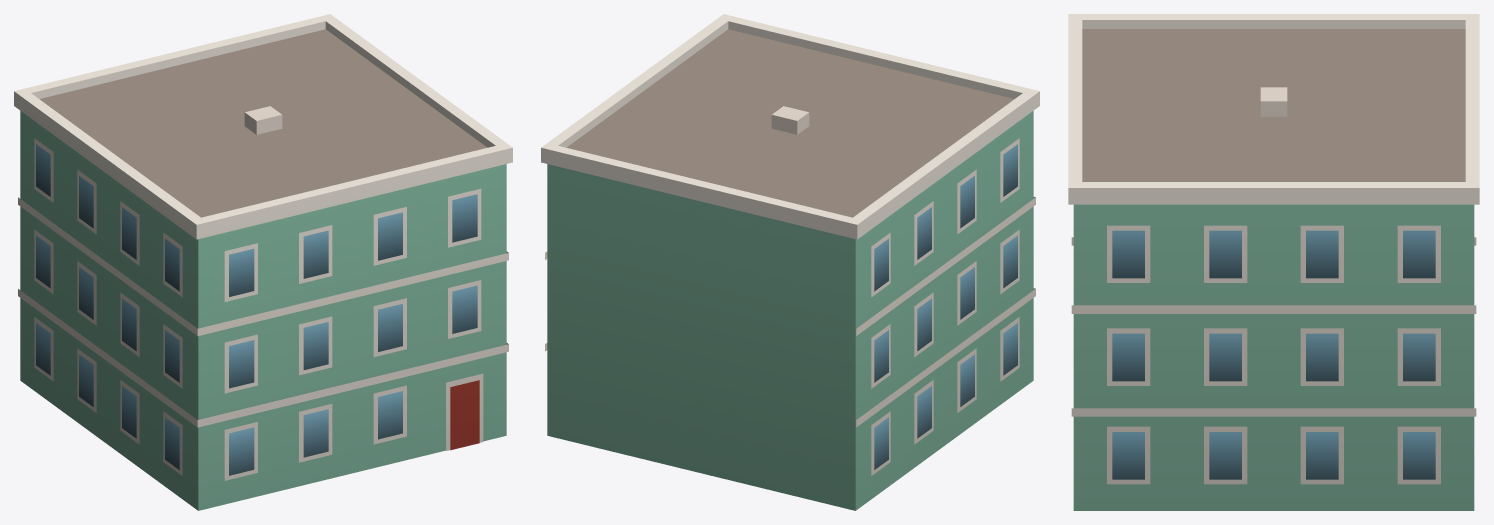
Rendered from tremont_n6_far.glb.
The picture shows the model from 3 angles, left to right: view 1: azimuth 30°, elevation 25°; view 2: azimuth 150°, elevation 25°; view 3: azimuth 270°, elevation 25°; orthographic projection. The views are drawn at different scales.
Parts seen in each view (by area): view 1: tremont_n6_far; view 2: tremont_n6_far; view 3: tremont_n6_far.
Boxes of the visible parts, box(x1,y1,x2,y2) form: tremont_n6_far: box(14, 14, 512, 510); tremont_n6_far: box(541, 14, 1039, 510); tremont_n6_far: box(1068, 14, 1479, 510).
Bounding box in the file's own units: 12.32 × 10.97 × 12.32.
Materials: 1 (1 with a texture image).
